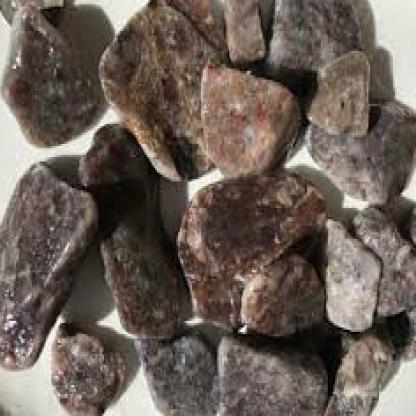Metamorphic_Quartize: (2, 159, 98, 374), (174, 166, 335, 294), (176, 49, 305, 201), (2, 0, 95, 137), (213, 323, 337, 414), (319, 204, 395, 325), (30, 323, 122, 403), (302, 46, 376, 142)
